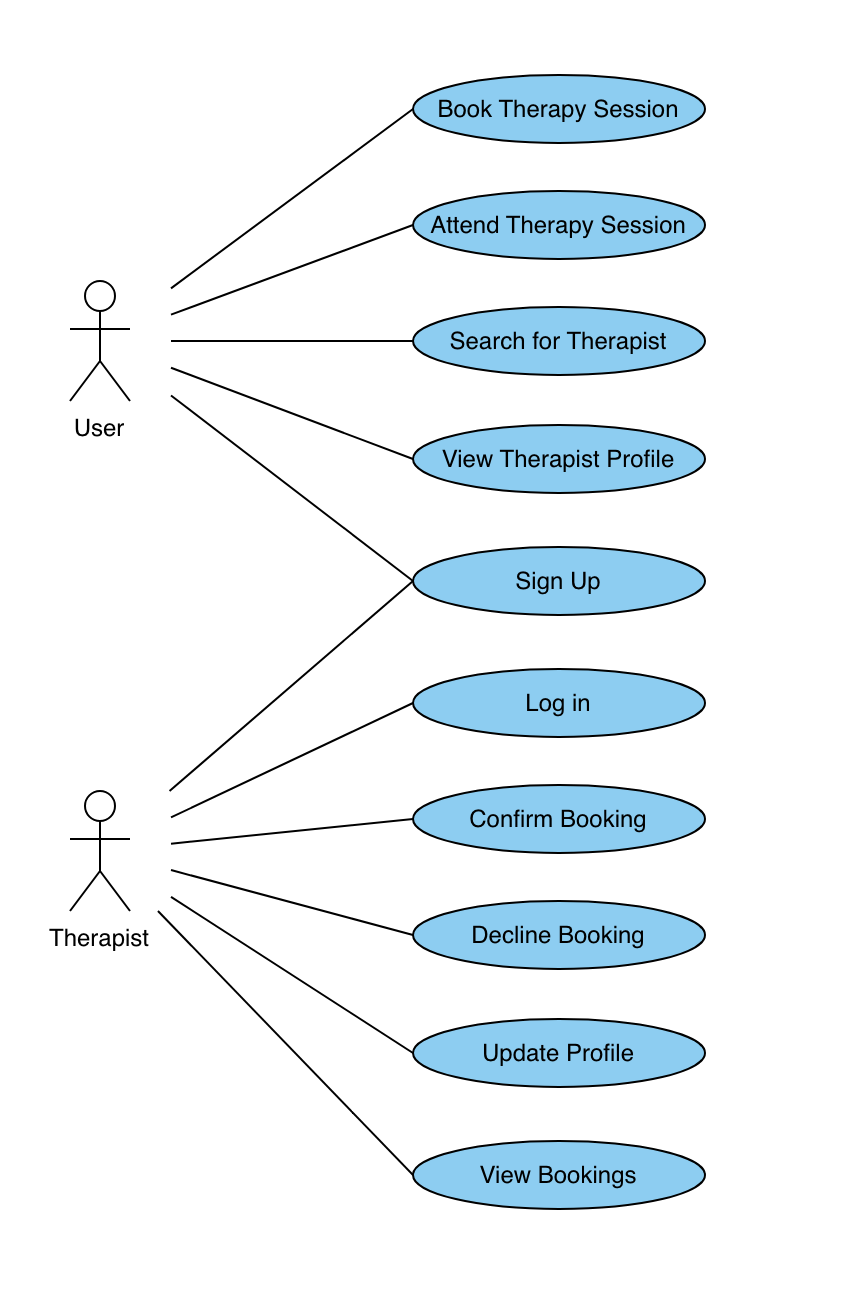actor: (64, 272, 136, 411), (64, 784, 138, 917)
association: (155, 911, 409, 1174), (159, 579, 411, 802), (170, 104, 413, 292), (168, 394, 411, 577), (174, 890, 406, 1051), (168, 702, 412, 819), (168, 357, 413, 460), (168, 225, 409, 317), (171, 865, 410, 936), (170, 322, 411, 360), (169, 814, 411, 850)
text: (428, 211, 690, 244), (458, 913, 655, 956), (435, 323, 672, 358), (434, 93, 688, 125), (442, 443, 685, 472), (472, 1031, 638, 1073), (475, 1157, 645, 1196), (466, 809, 647, 838), (43, 919, 161, 961), (502, 558, 619, 598), (512, 684, 602, 727), (58, 405, 145, 448)
use_case: (412, 1015, 711, 1093), (407, 544, 710, 620), (409, 187, 711, 263), (409, 896, 709, 972), (414, 781, 710, 858), (416, 1137, 711, 1214), (411, 72, 709, 148), (412, 304, 709, 380), (412, 422, 708, 497), (413, 666, 709, 740)
